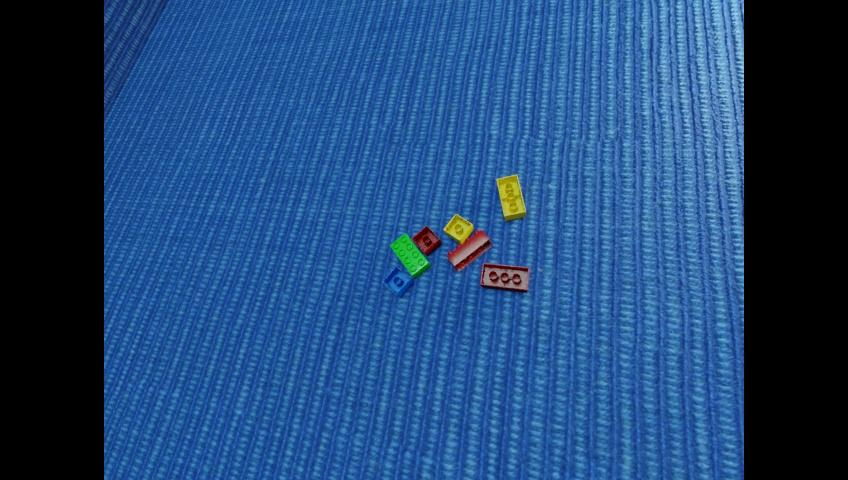2x2_blue: (382, 266, 413, 297)
2x2_red: (411, 224, 441, 255)
2x2_yellow: (443, 213, 472, 244)
4x2_green: (390, 233, 430, 278)
4x2_red: (446, 229, 490, 271), (480, 262, 528, 292)
4x2_yellow: (496, 174, 525, 220)
